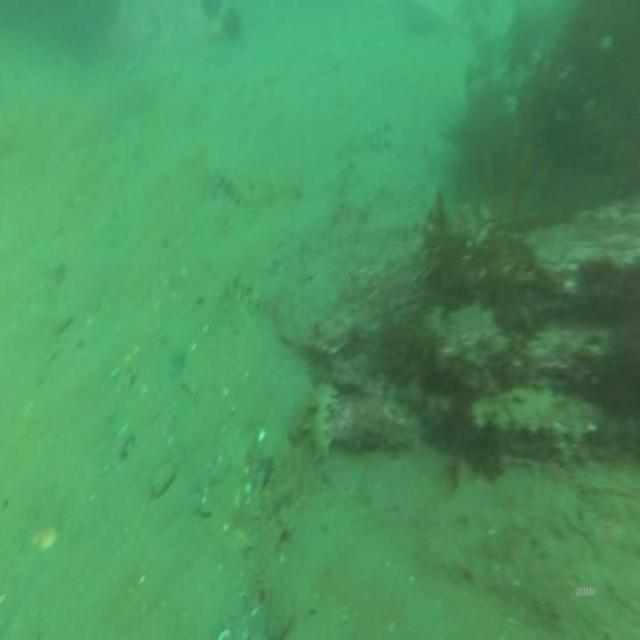holothurian: (306, 371, 338, 468)
